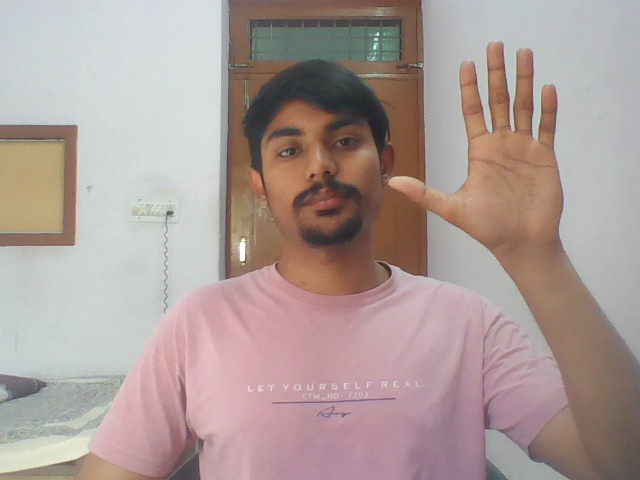Hello: (383, 40, 586, 245)
